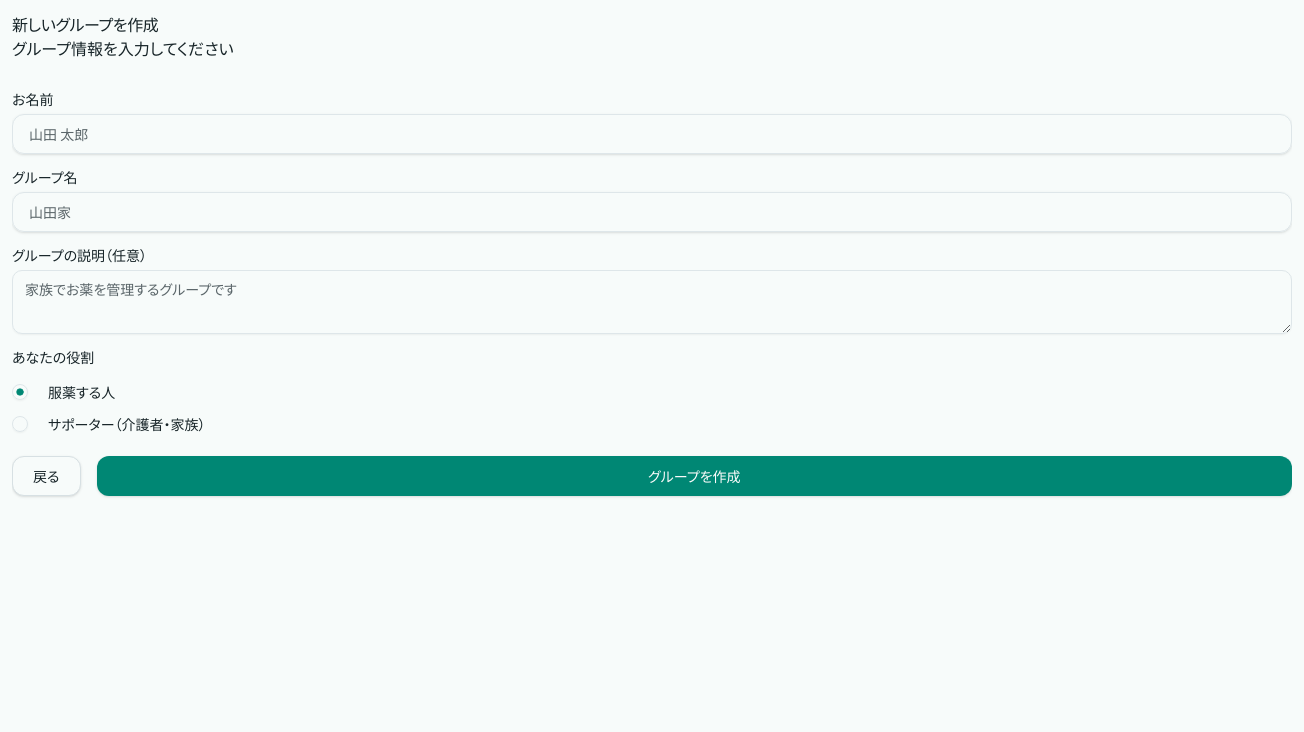
Test: GroupCreationForm › お名前が空の場合バリデーションエラー
Step 1. Type "テストグループ" into the field labelled "グループ名" → (652, 212), box [12, 192, 1292, 232]
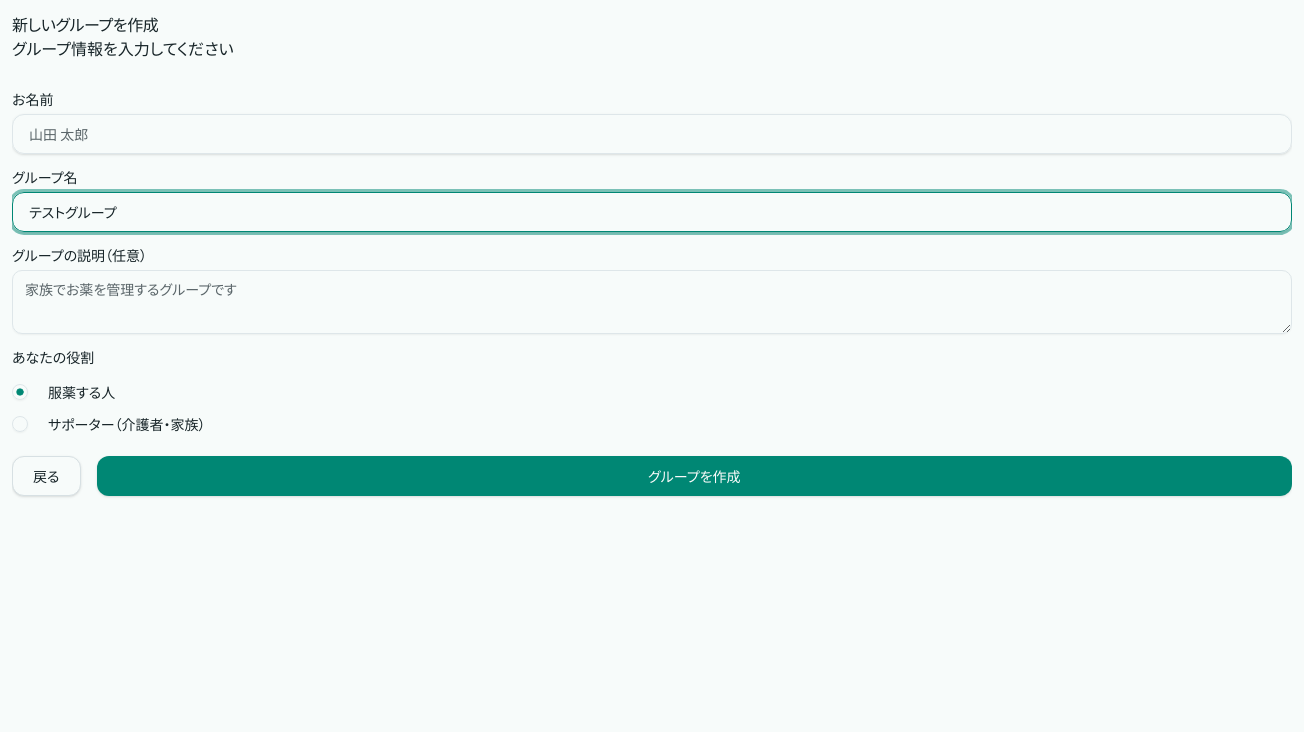
Step 2. Click the button "グループを作成" → (694, 476), box [96, 456, 1292, 496]
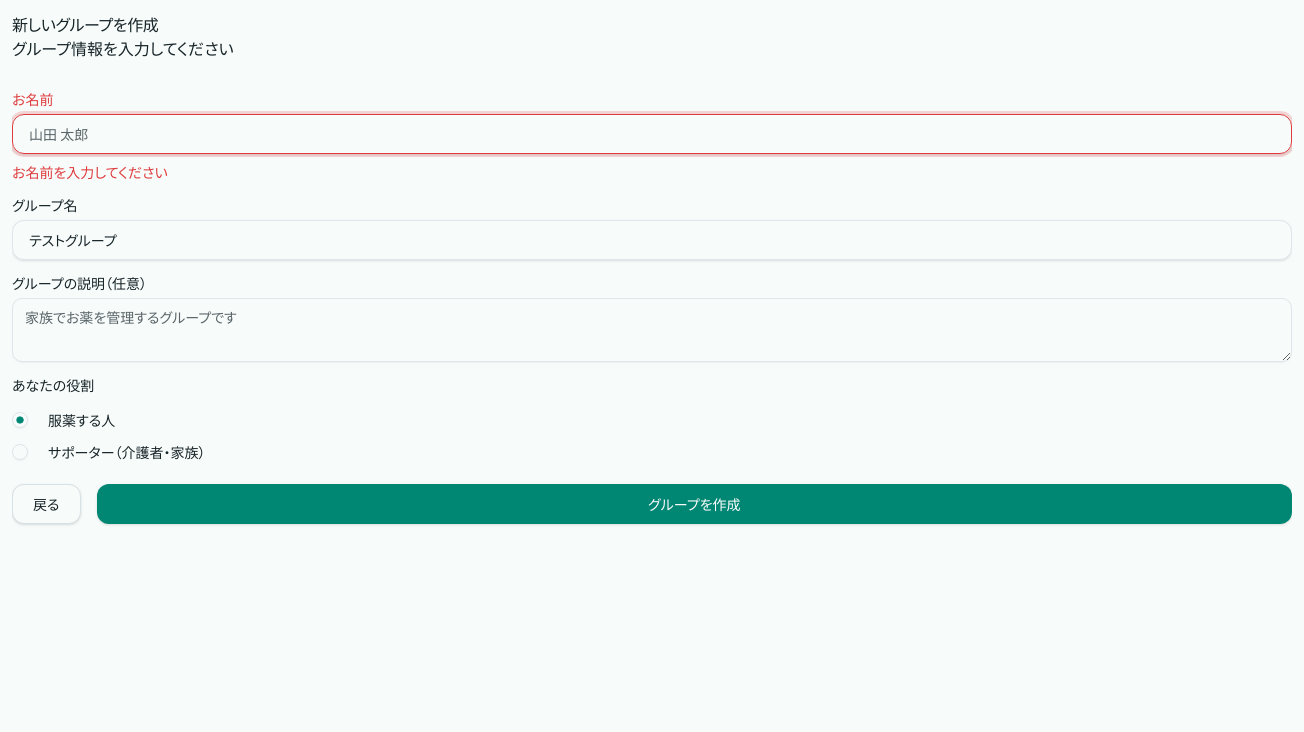
Result: the text "お名前を入力してください" is shown at [12, 162, 168, 182]
